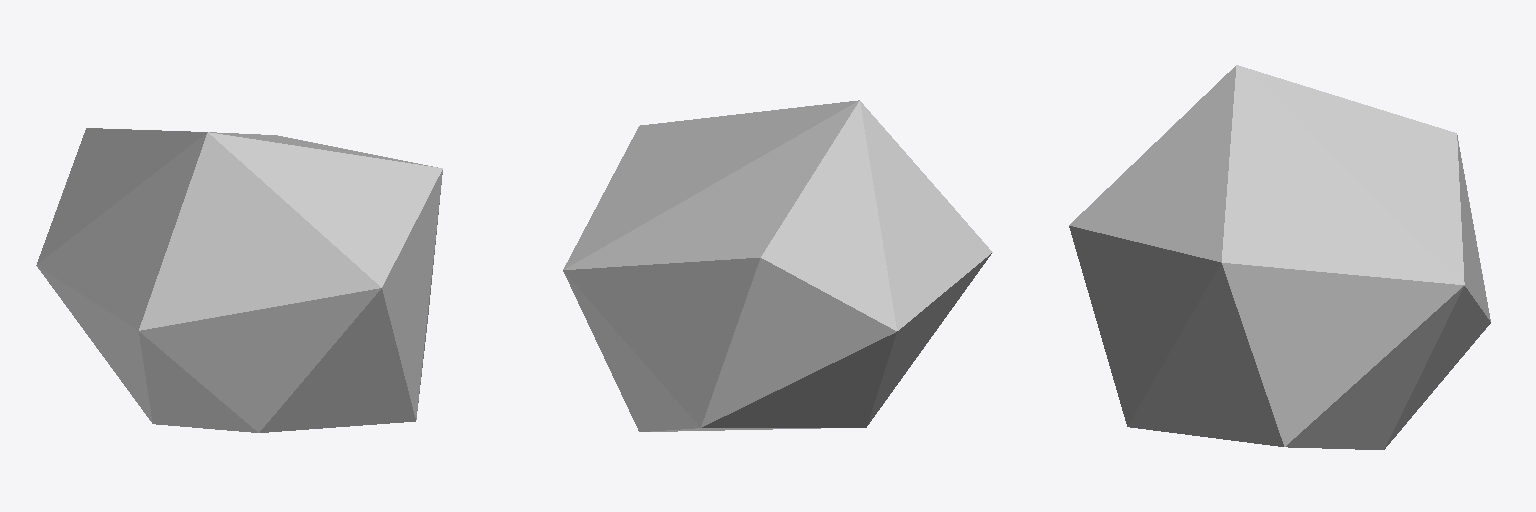
The model's file is lowpolyrock1.obj.
3 views of the same model, side by side, from view 1: azimuth 30°, elevation 25°; view 2: azimuth 150°, elevation 25°; view 3: azimuth 270°, elevation 25° (orthographic).
Parts seen in each view (by area): view 1: Icosphere; view 2: Icosphere; view 3: Icosphere.
Boxes of the visible parts, <box> form: Icosphere: <box>36,128,442,432</box>; Icosphere: <box>563,100,992,431</box>; Icosphere: <box>1069,65,1490,449</box>.
Bounding box in the file's own units: 0.9351 × 0.8036 × 0.9802.